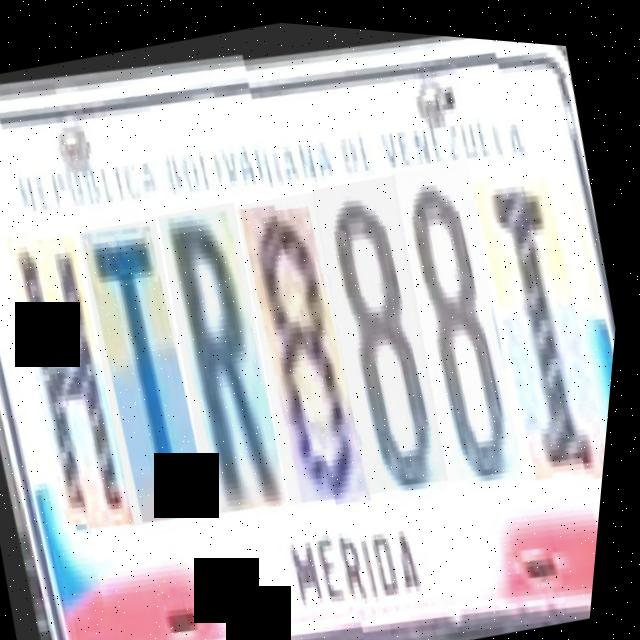8: (294, 162, 477, 493), (371, 146, 551, 480), (219, 181, 395, 504)
H: (0, 222, 160, 539)
I: (451, 139, 632, 468)
R: (141, 193, 316, 516)
T: (63, 210, 236, 528)
